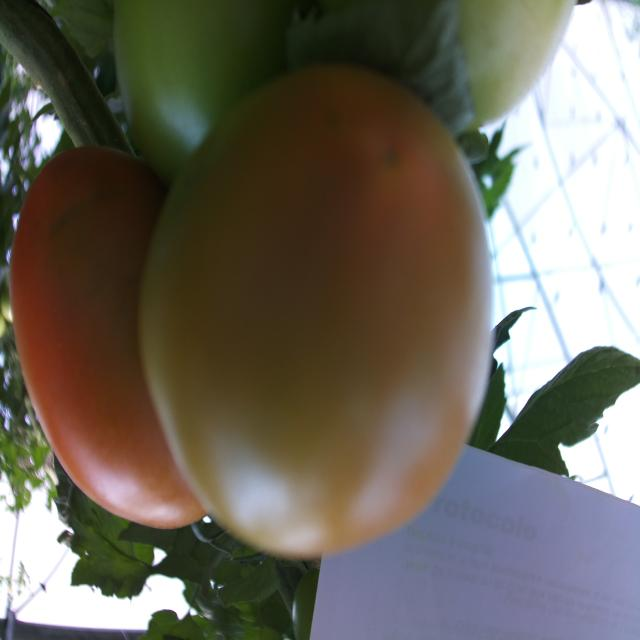yesil: (134, 91, 521, 560)
